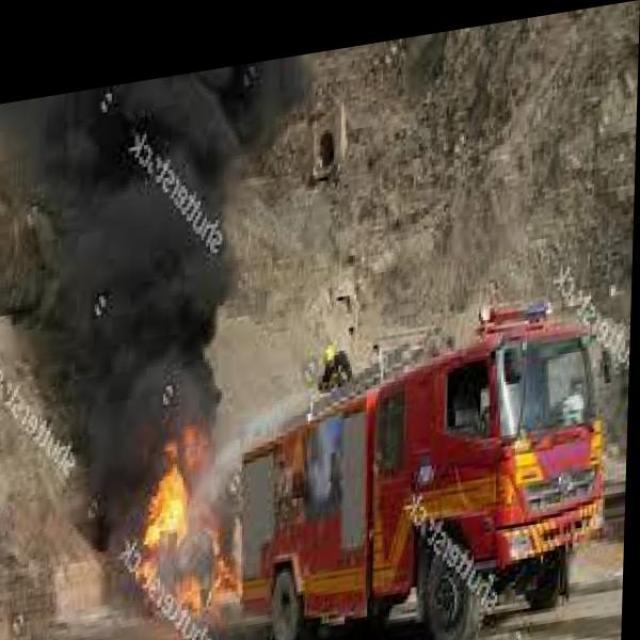emergency: (236, 299, 616, 640)
